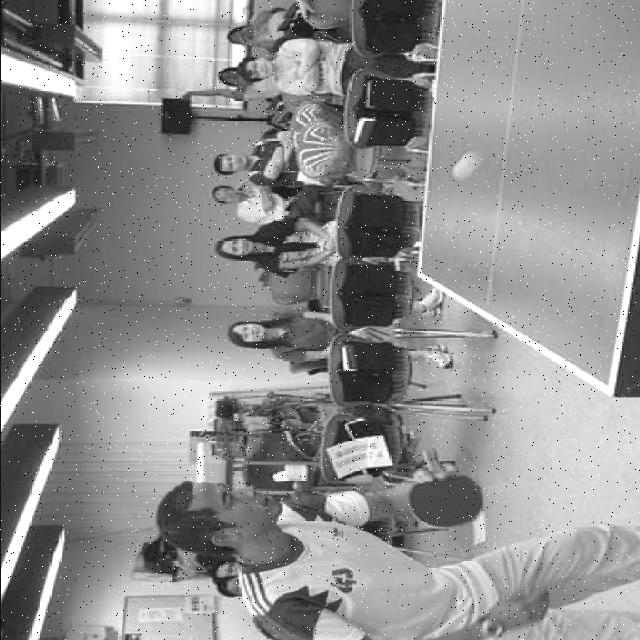ping-pong-ball: (448, 152, 482, 180)
